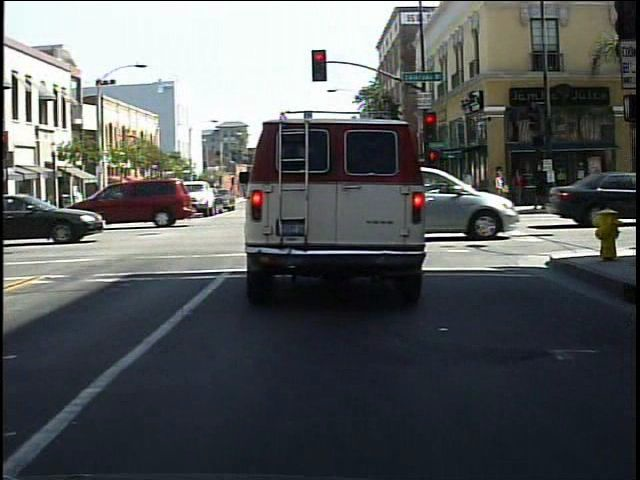person: (529, 159, 550, 209), (511, 165, 531, 194)
